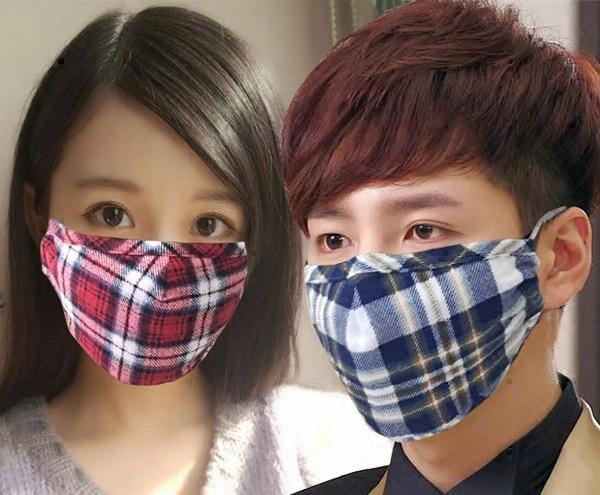OK: (297, 183, 544, 430), (57, 164, 281, 388)
